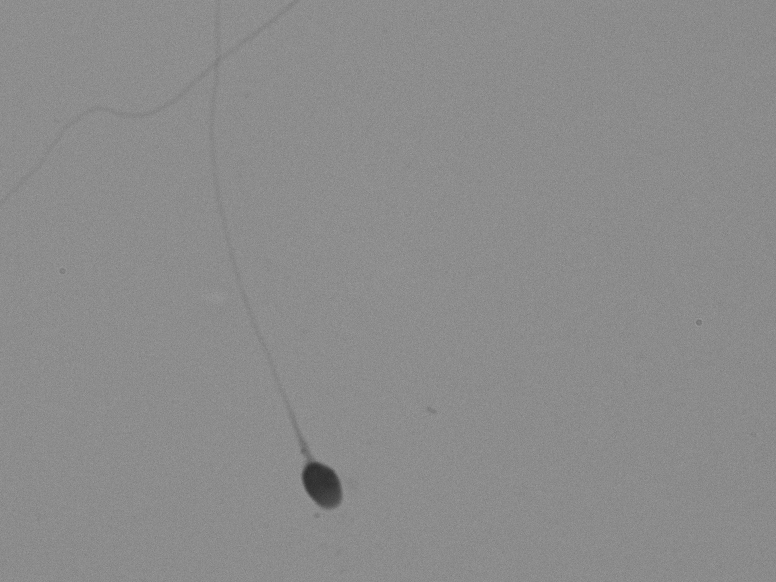Normal: (156, 26, 393, 542)
